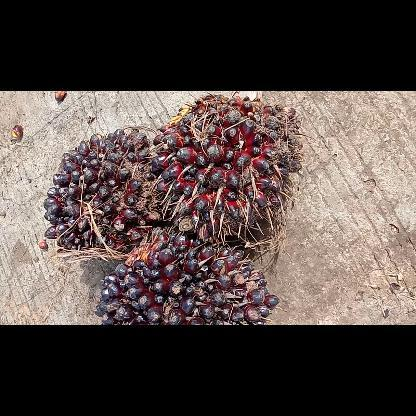TBS mentah: (146, 91, 302, 247), (93, 224, 287, 324), (41, 126, 168, 254)
